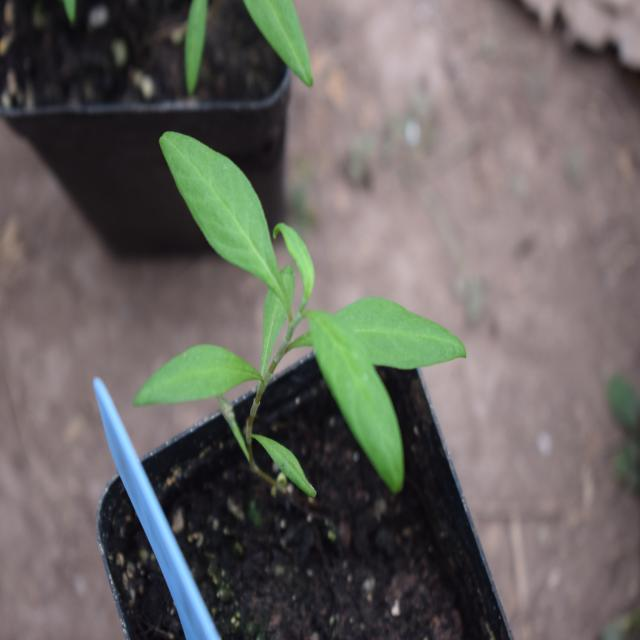white_smart_weed: (127, 104, 456, 462)
